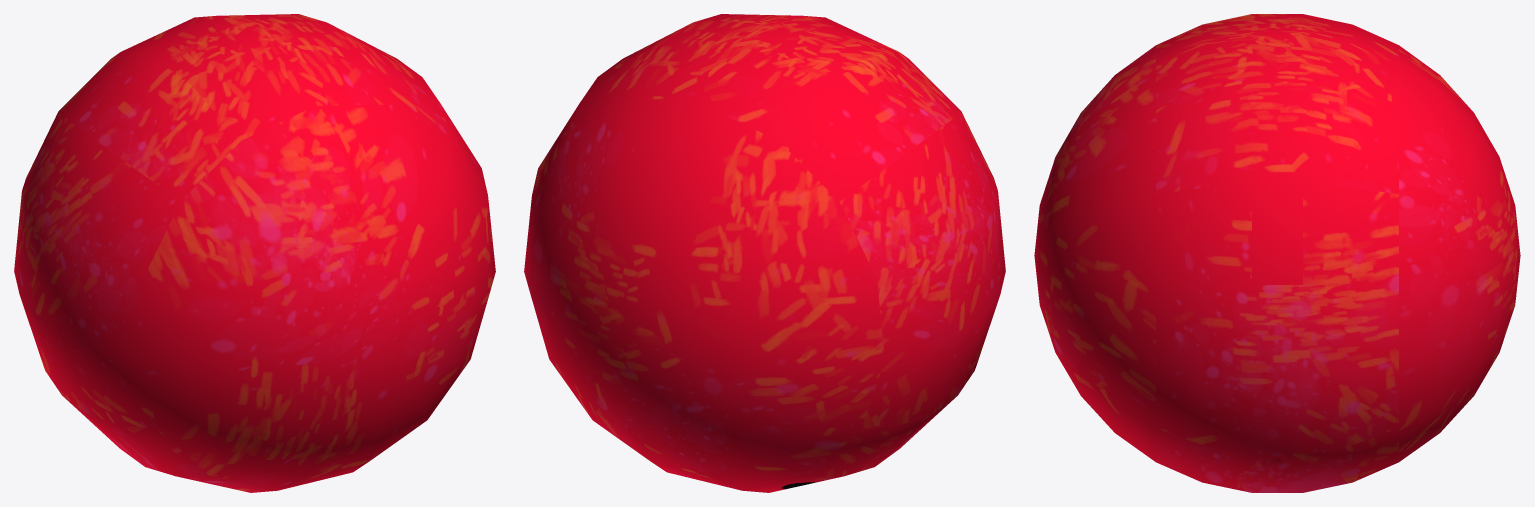
Rendered from boss.fbx.
3 renders of one model, left to right at view 1: azimuth 30°, elevation 25°; view 2: azimuth 150°, elevation 25°; view 3: azimuth 270°, elevation 25°, orthographic.
Visible parts, largest first — view 1: OBro; view 2: OBro; view 3: OBro.
Boxes of the visible parts, left/top/right/bottom form: OBro: left=14, top=14, right=495, bottom=492; OBro: left=524, top=14, right=1005, bottom=492; OBro: left=1034, top=14, right=1520, bottom=492.
Bounding box in the file's own units: 758 × 754 × 767.
1 material, 1 textured.
